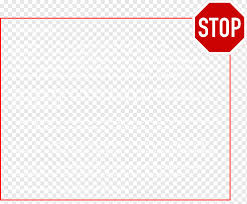stop sign: (193, 2, 244, 53)
